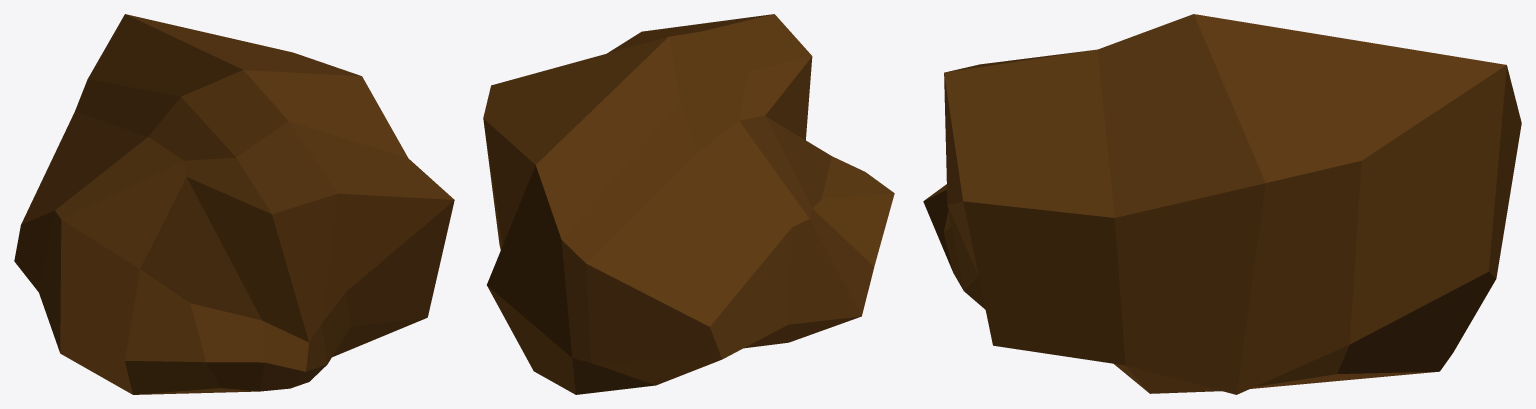
File: BigRock_A.fbx
The picture shows the model from 3 angles, left to right: view 1: azimuth 30°, elevation 25°; view 2: azimuth 150°, elevation 25°; view 3: azimuth 270°, elevation 25°; orthographic projection. The views are drawn at different scales.
Parts seen in each view (by area): view 1: Rock_A; view 2: Rock_A; view 3: Rock_A.
Boxes of the visible parts, <box> form: Rock_A: <box>14,14,454,394</box>; Rock_A: <box>483,14,894,394</box>; Rock_A: <box>923,14,1521,394</box>.
Size of the model in its own units: 1.62 by 1.99 by 1.29.
